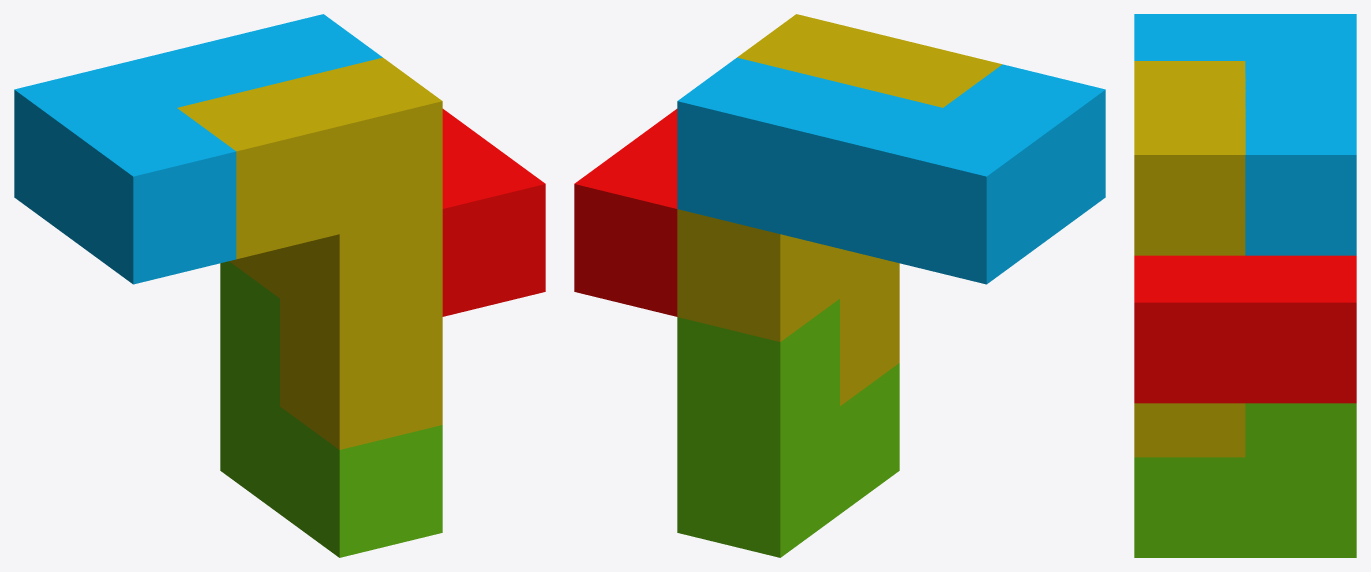
3 renders of one model, left to right at view 1: azimuth 30°, elevation 25°; view 2: azimuth 150°, elevation 25°; view 3: azimuth 270°, elevation 25°, orthographic. The views are drawn at different scales.
Visible parts, largest first — view 1: mergedBlocks(Clone); view 2: mergedBlocks(Clone); view 3: mergedBlocks(Clone).
Boxes of the visible parts, x1,y1,x2,y2 form: mergedBlocks(Clone): (14,14,545,557); mergedBlocks(Clone): (574,14,1105,557); mergedBlocks(Clone): (1134,14,1356,557).
Size of the model in its own units: 4 by 4 by 2.
Materials: 4 (4 with a texture image).
